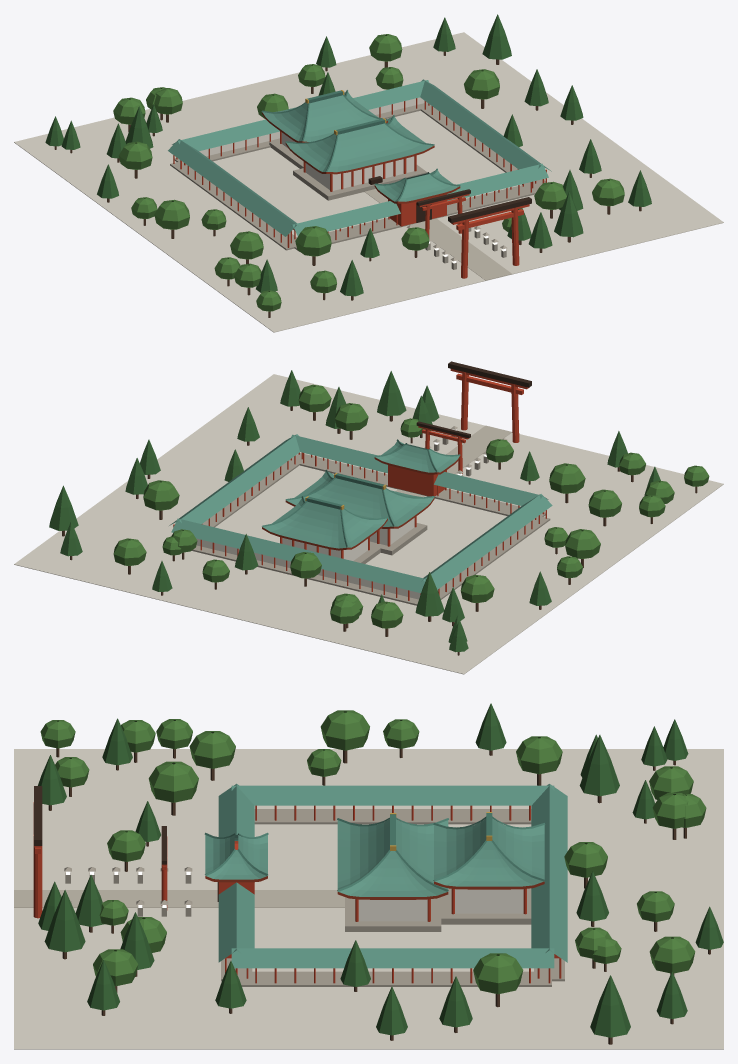
The model's file is grand_shrine.glb.
The picture shows the model from 3 angles, top to bottom: view 1: azimuth 30°, elevation 25°; view 2: azimuth 150°, elevation 25°; view 3: azimuth 270°, elevation 25°; orthographic projection. The views are drawn at different scales.
Parts seen in each view (by area): view 1: GrandShrine_static; view 2: GrandShrine_static; view 3: GrandShrine_static.
Boxes of the visible parts, bbox=[...] form: GrandShrine_static: bbox=[14, 14, 723, 332]; GrandShrine_static: bbox=[14, 361, 723, 674]; GrandShrine_static: bbox=[14, 703, 723, 1049].
Size of the model in its own units: 119 by 15.92 by 118.
